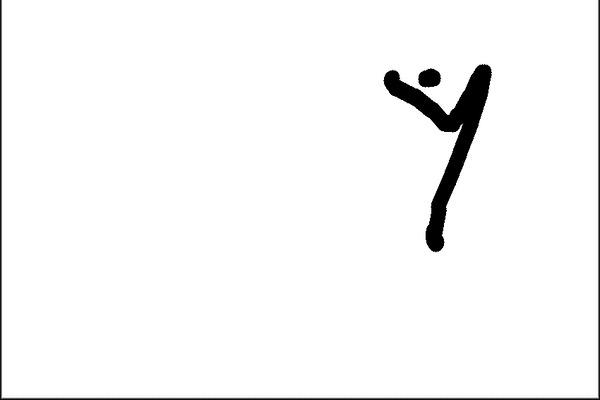Y: (378, 56, 506, 282)
